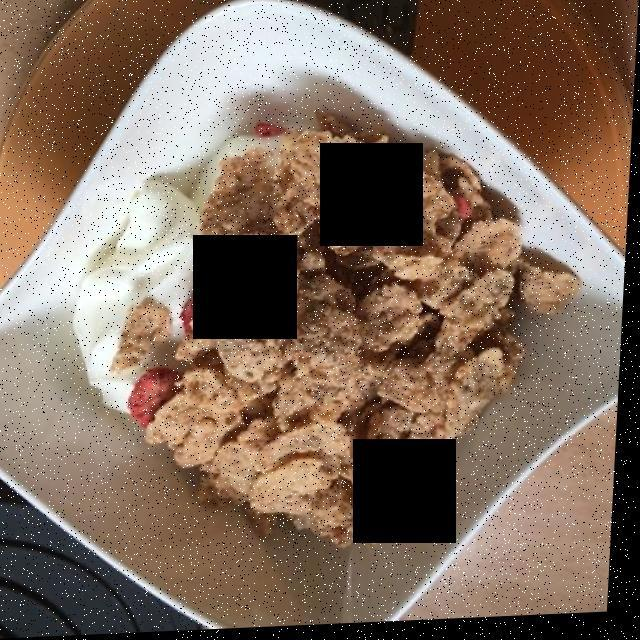corn-flakes: (140, 124, 589, 577)
yogurt: (74, 169, 218, 395)
